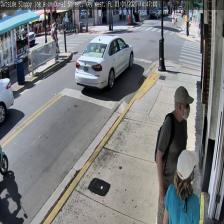person: (155, 86, 194, 224), (163, 149, 200, 223)
